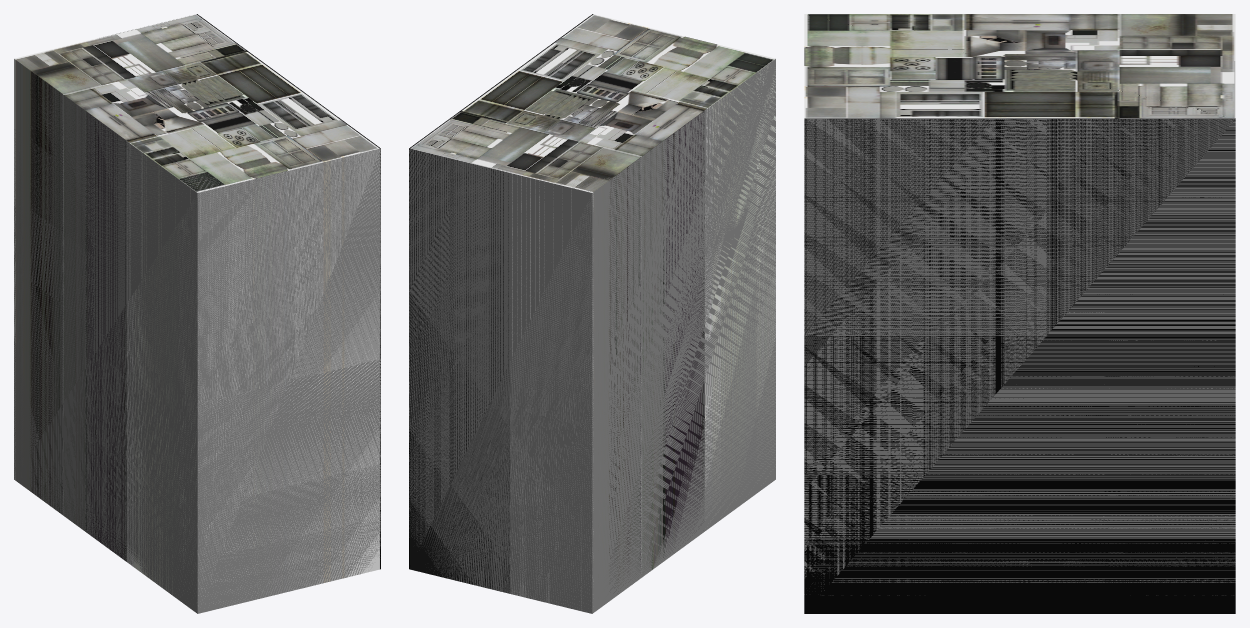
Rendered from counter_top_04.FBX.
3 views of the same model, side by side, from view 1: azimuth 30°, elevation 25°; view 2: azimuth 150°, elevation 25°; view 3: azimuth 270°, elevation 25° (orthographic). The views are drawn at different scales.
Parts seen in each view (by area): view 1: bounds, colbox-1; view 2: bounds, colbox-1; view 3: colbox-1, bounds.
Part boxes in pixels (x1,y1,x2,y2): bounds: (14, 74, 380, 613); colbox-1: (14, 14, 380, 603); bounds: (409, 59, 775, 613); colbox-1: (409, 14, 775, 609); colbox-1: (804, 14, 1235, 613); bounds: (804, 119, 1235, 595).
Size of the model in its own units: 52.9 by 116 by 91.8.
